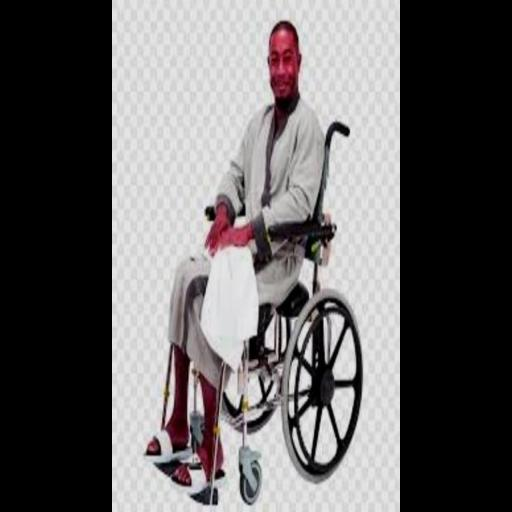cadeira_de_rodas: (139, 17, 376, 511)
